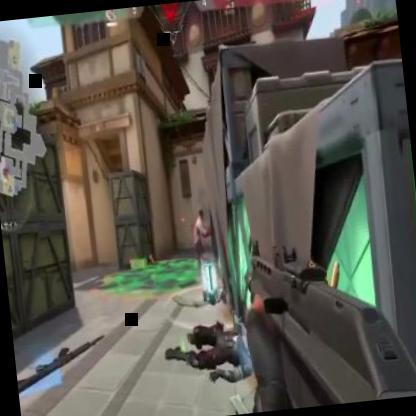enemy: (187, 209, 217, 289)
enemy_head: (198, 209, 204, 224)
